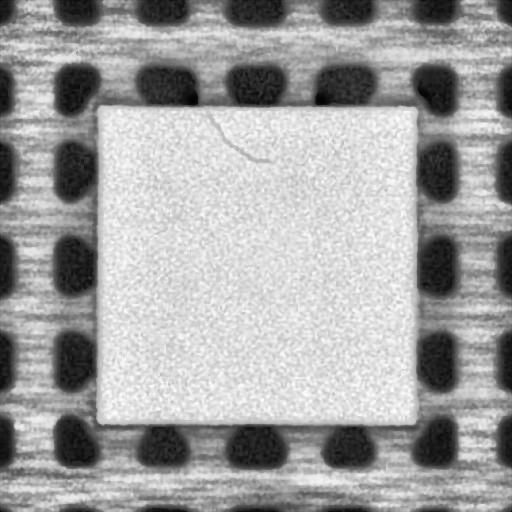DIE_CRACK: (206, 108, 265, 164)
